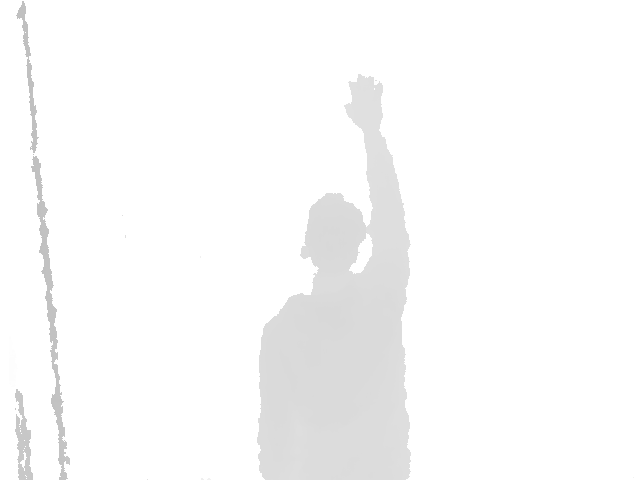hand: (344, 74, 384, 131)
head: (298, 193, 366, 273)
person: (257, 74, 413, 480)
